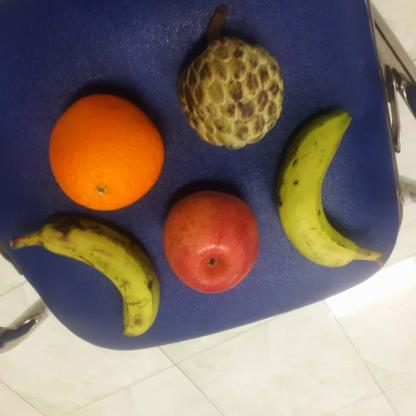annona: (176, 39, 286, 151)
apple: (160, 190, 262, 296)
banana: (39, 212, 162, 340), (274, 110, 368, 270)
orange: (46, 93, 167, 214)
